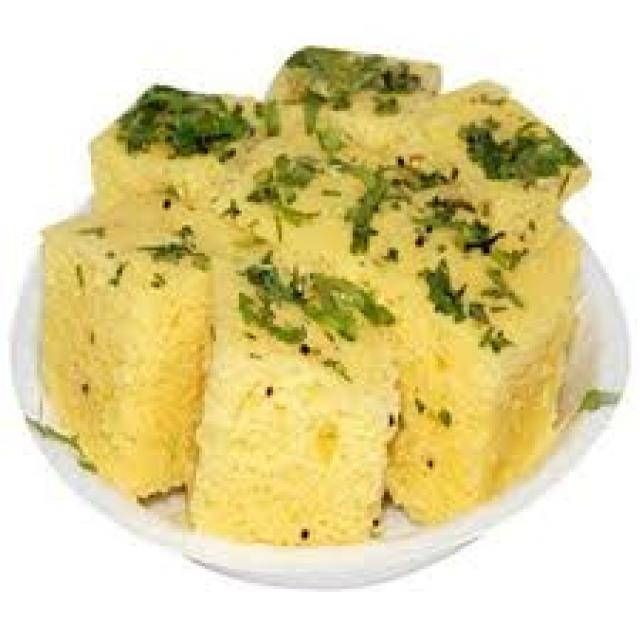DHOKLA: (11, 46, 629, 583)
